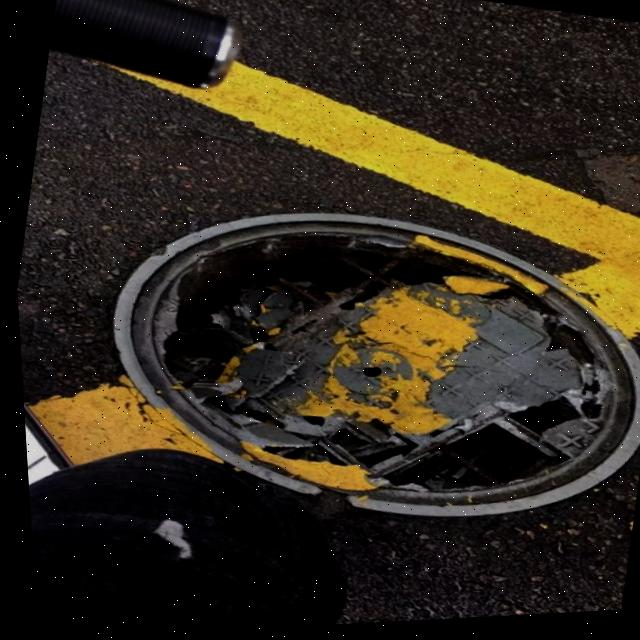manhole: (55, 153, 640, 576)
